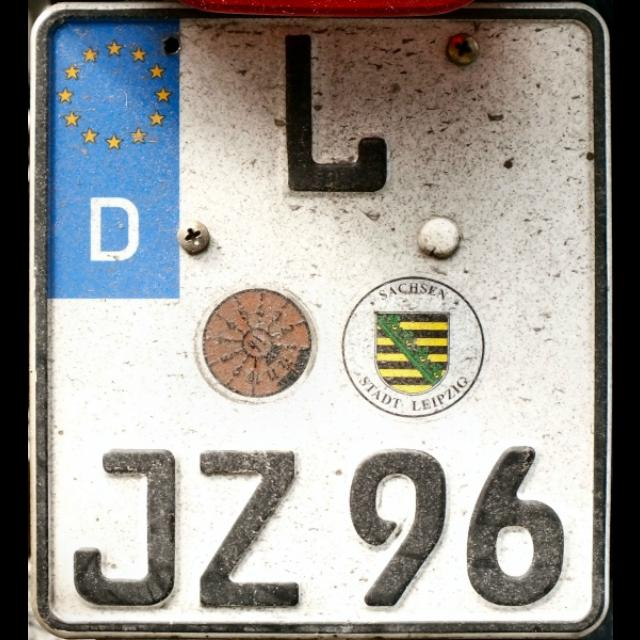d_license_plate: (38, 12, 600, 630)
